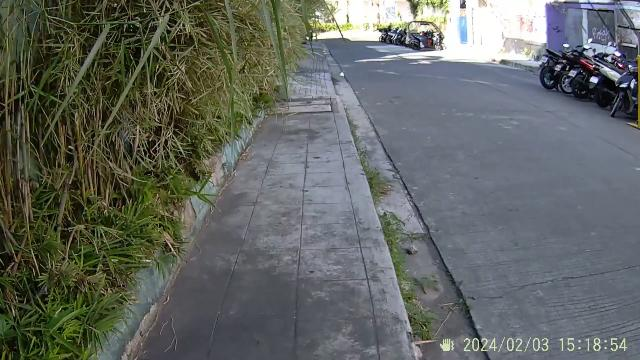motorcycle: (536, 28, 640, 116)
